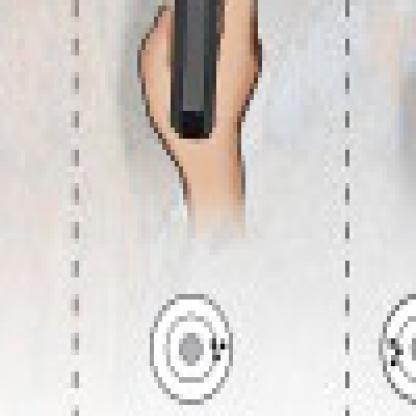gun: (171, 0, 241, 144)
